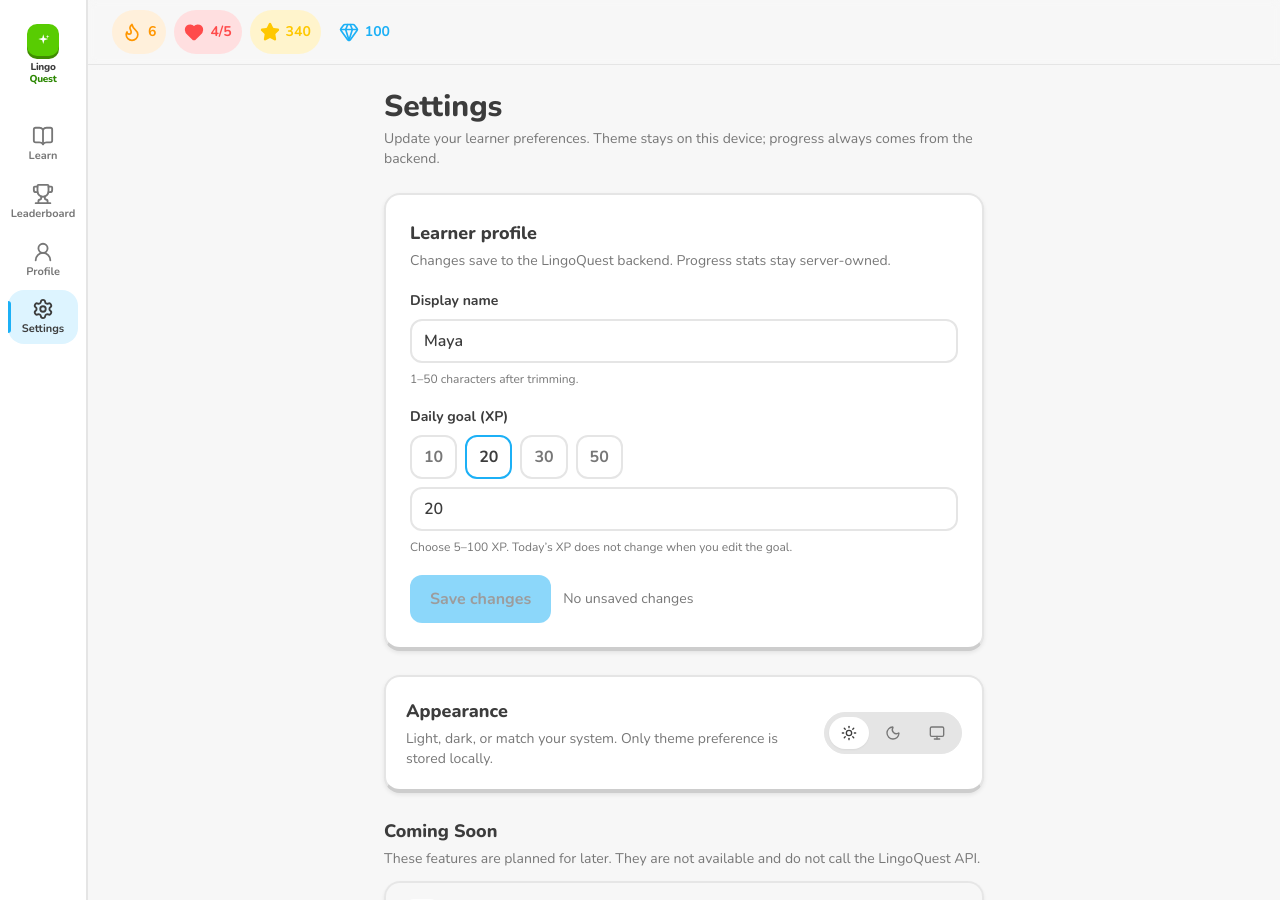
Test: Phase 11A settings › initializes fields from GET /user/me and tracks dirty state
Expected: the number field labelled "Daily goal (XP)" holds "20", [410, 487, 958, 531]
Expected: the button "Save changes" is disabled, [410, 575, 551, 623]
Replace the text in the field labelled "Display name" with "Maya Quest" at [684, 341], box [410, 319, 958, 363]
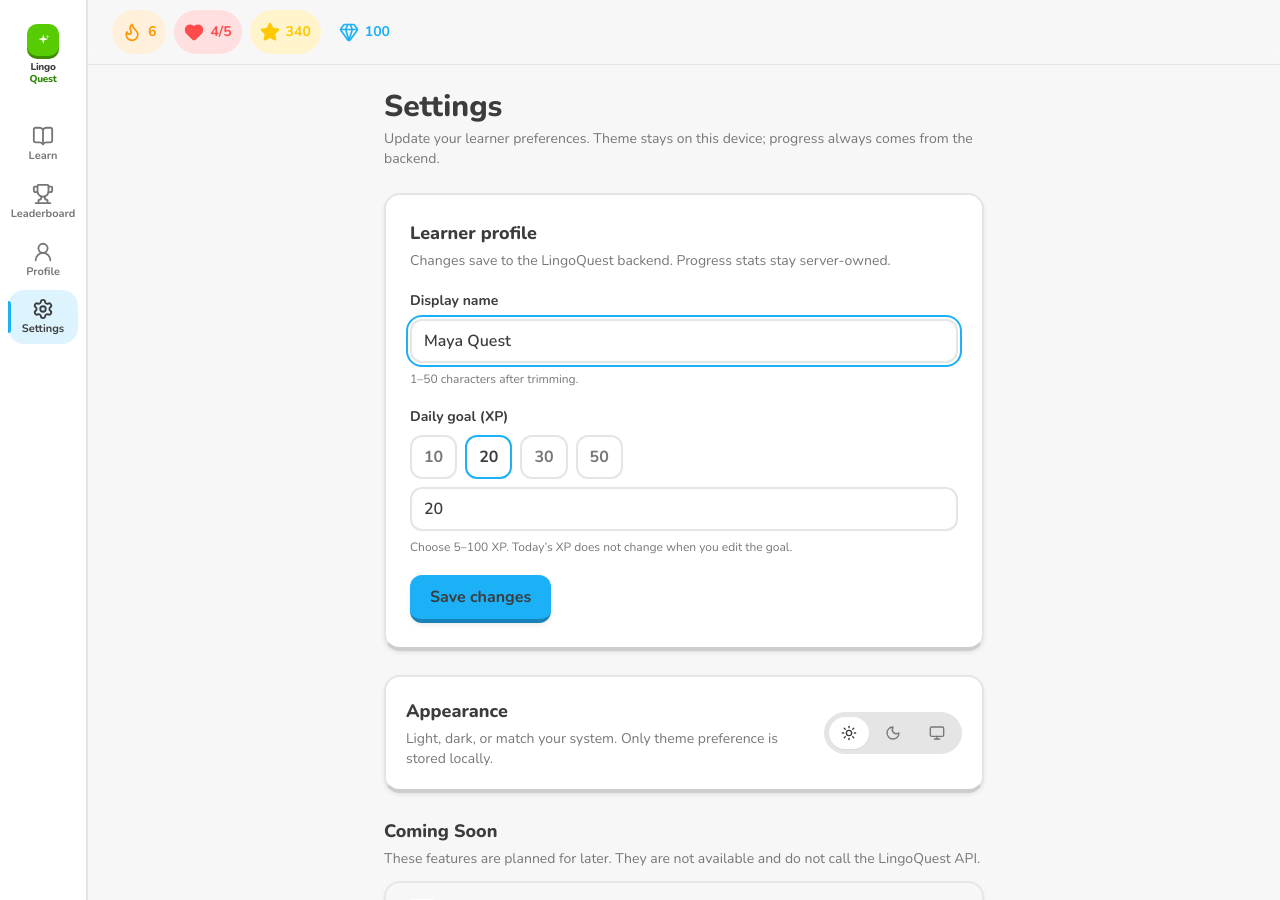
Now the button "Save changes" is enabled, box [410, 575, 551, 623]
